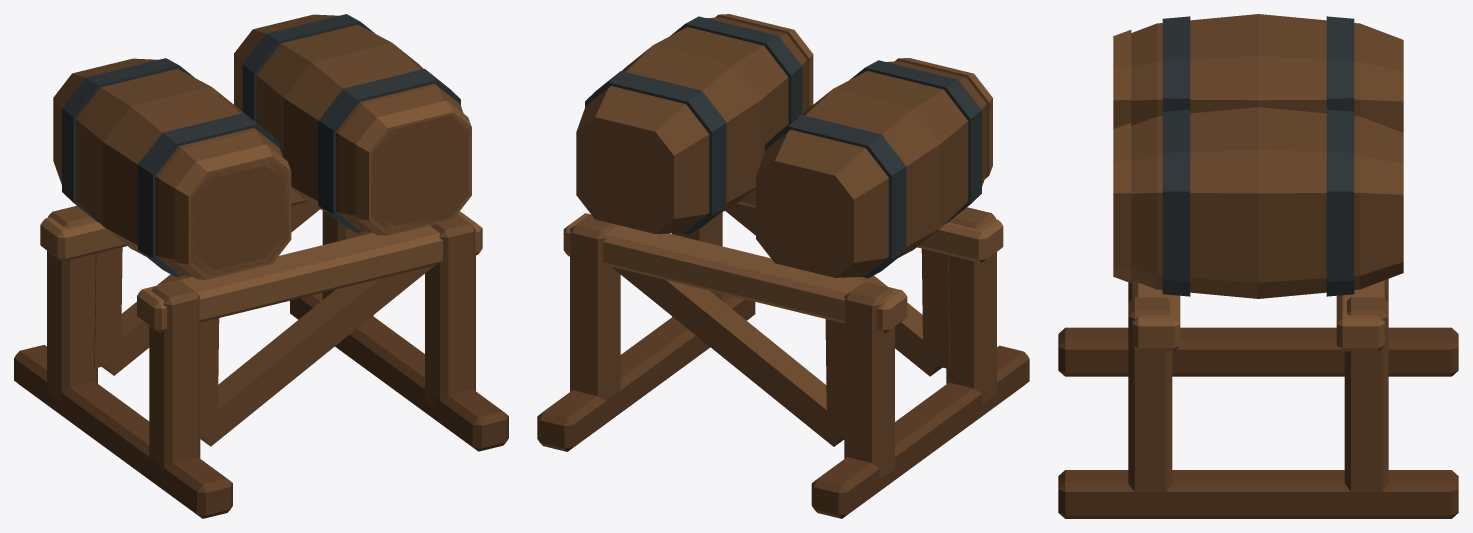
File: aging_rack.glb
3 renders of one model, left to right at view 1: azimuth 30°, elevation 25°; view 2: azimuth 150°, elevation 25°; view 3: azimuth 270°, elevation 25°, orthographic. The views are drawn at different scales.
Parts seen in each view (by area): view 1: aging_rack; view 2: aging_rack; view 3: aging_rack.
Part boxes in pixels (x1,y1,x2,y2): aging_rack: [14, 14, 508, 518]; aging_rack: [537, 14, 1029, 518]; aging_rack: [1058, 14, 1458, 518].
Bounding box in the file's own units: 2 × 1.98 × 2.
